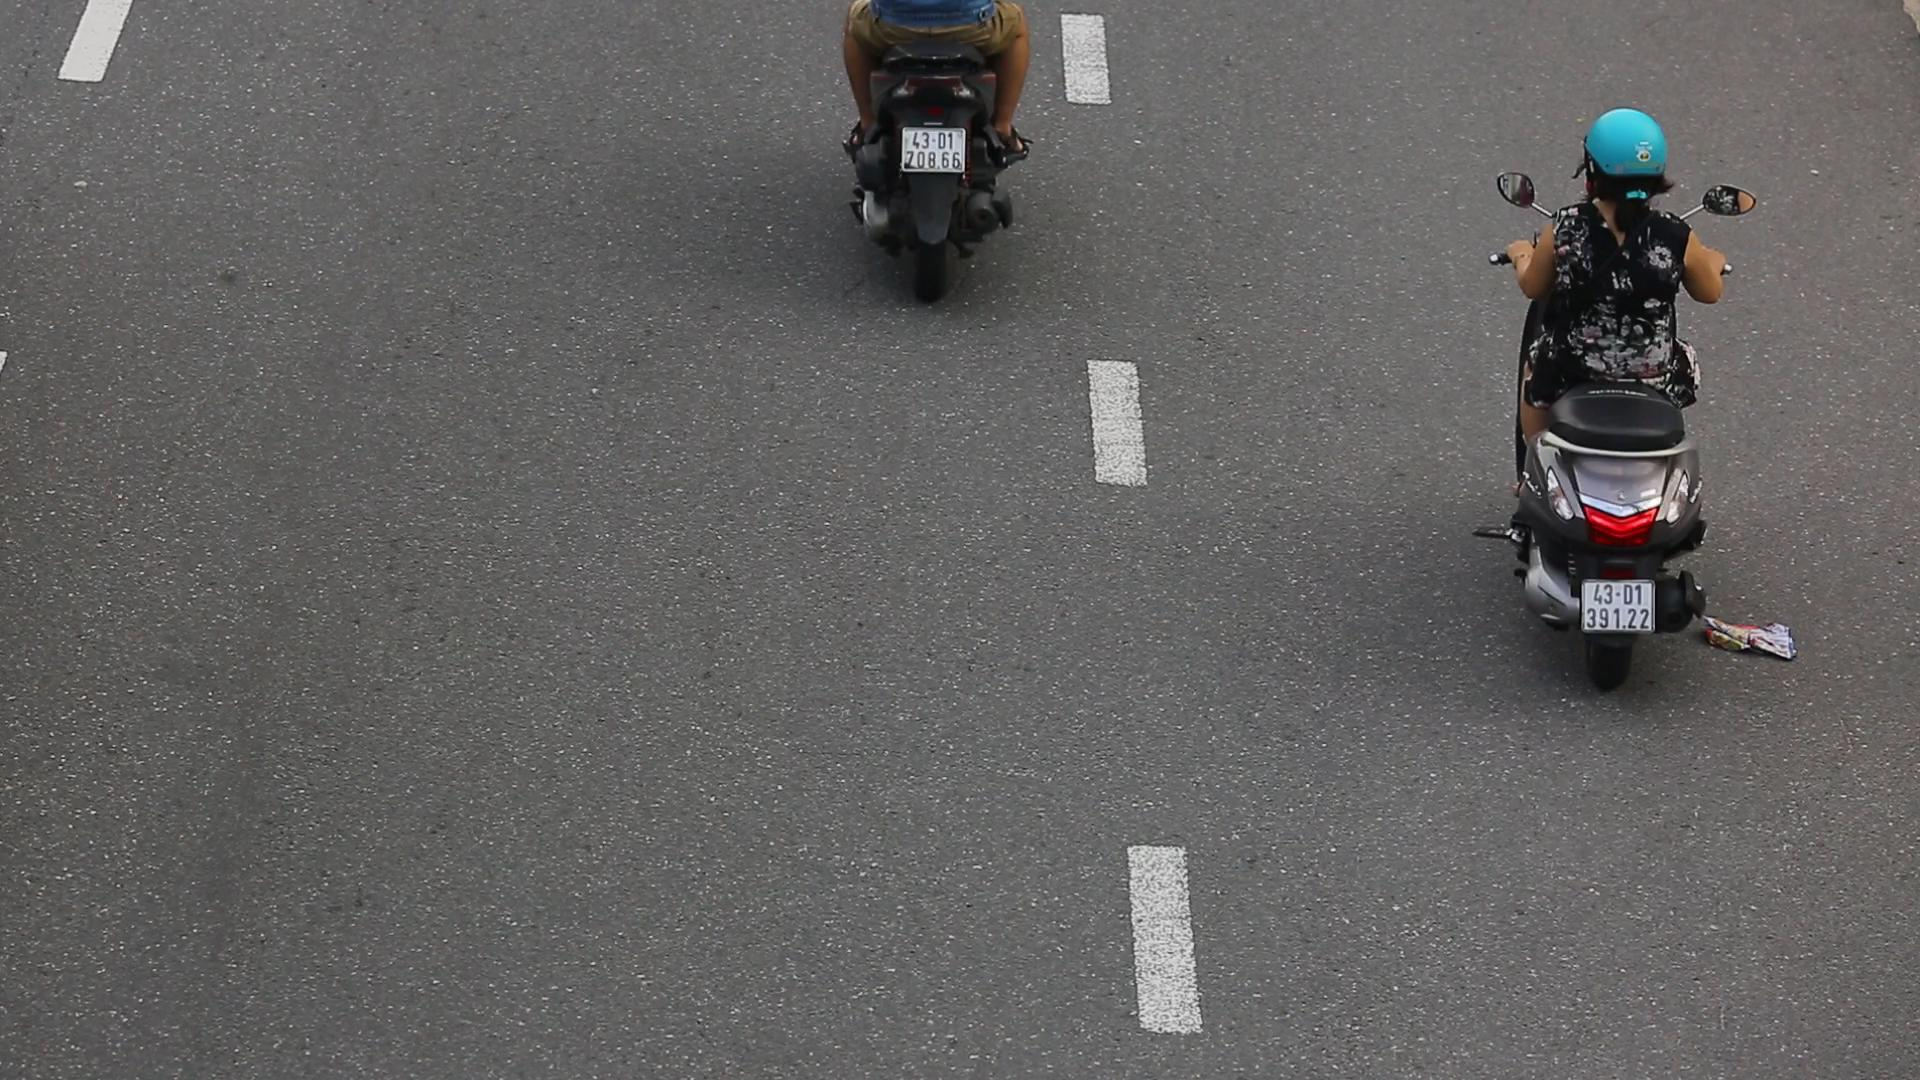motobike: (1485, 83, 1749, 709)
